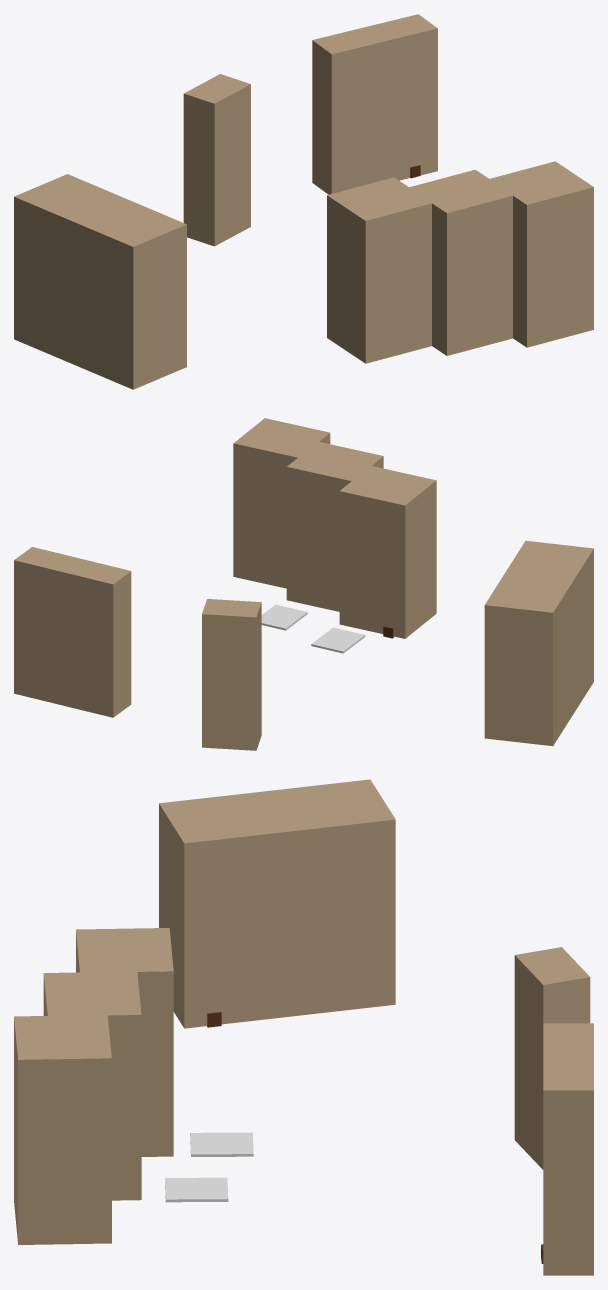
File: flora_square.gltf
3 renders of one model, top to bottom at view 1: azimuth 30°, elevation 25°; view 2: azimuth 150°, elevation 25°; view 3: azimuth 270°, elevation 25°, orthographic. The views are drawn at different scales.
Parts seen in each view (by area): view 1: Building 2, Building 1, Building 4, Building 4.001, Building 4.002, Building 3; view 2: Building 2, Building 1, Building 4, Building 4.001, Building 4.002, Building 3, Cube, Cube.001; view 3: Building 2, Building 4.002, Building 1, Building 4, Building 4.001, Building 3, Cube, Cube.001.
Boxes of the visible parts, x1,y1,x2,y2 form: Building 2: (14,174,186,389); Building 1: (312,14,437,194); Building 4: (327,177,432,363); Building 4.001: (409,169,513,355); Building 4.002: (490,161,593,347); Building 3: (183,74,250,246); Building 2: (484,540,593,746); Building 1: (14,547,131,717); Building 4: (339,466,436,638); Building 4.001: (286,441,383,611); Building 4.002: (233,418,330,588); Building 3: (202,599,261,750); Cube: (311,627,365,653); Cube.001: (261,604,307,630); Building 2: (159,779,395,1028); Building 4.002: (14,1015,111,1244); Building 1: (543,1023,593,1275); Building 4: (76,928,173,1156); Building 4.001: (43,971,141,1200); Building 3: (514,947,590,1169); Cube: (190,1132,253,1156); Cube.001: (165,1177,228,1202).
Size of what is drawn, in the model's own units: 98.83 by 29.58 by 78.
